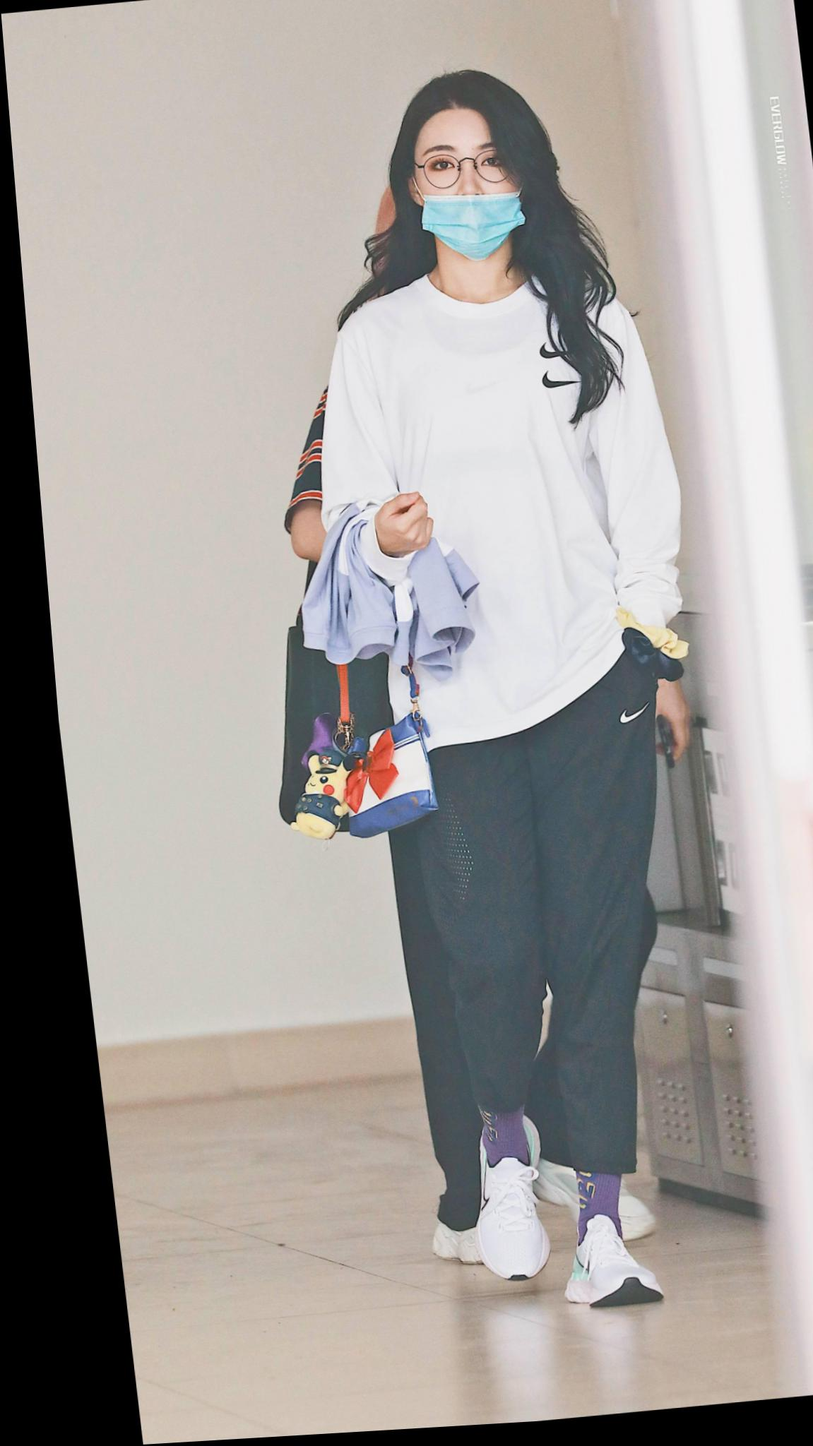WRONG: (404, 129, 522, 271)
